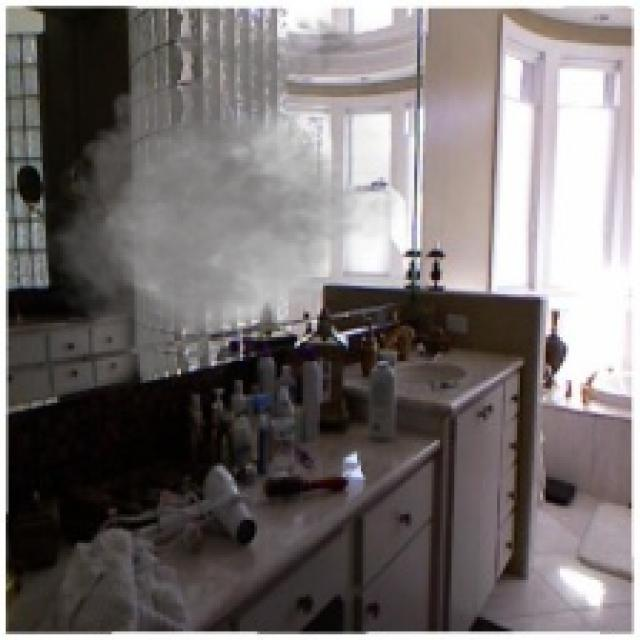smoke: (31, 6, 423, 391)
